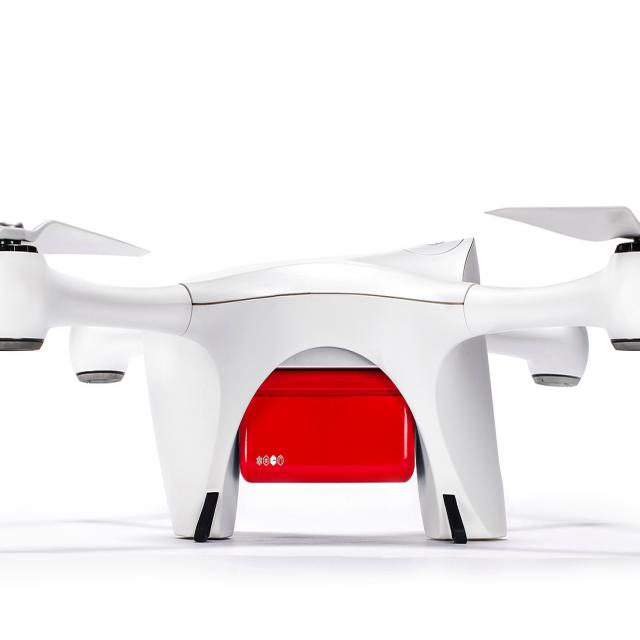drone: (0, 149, 640, 582)
